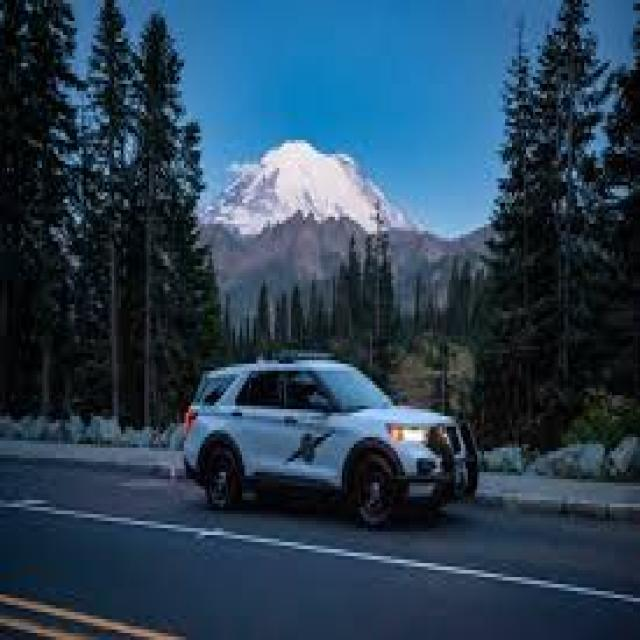cop: (184, 350, 482, 536)
